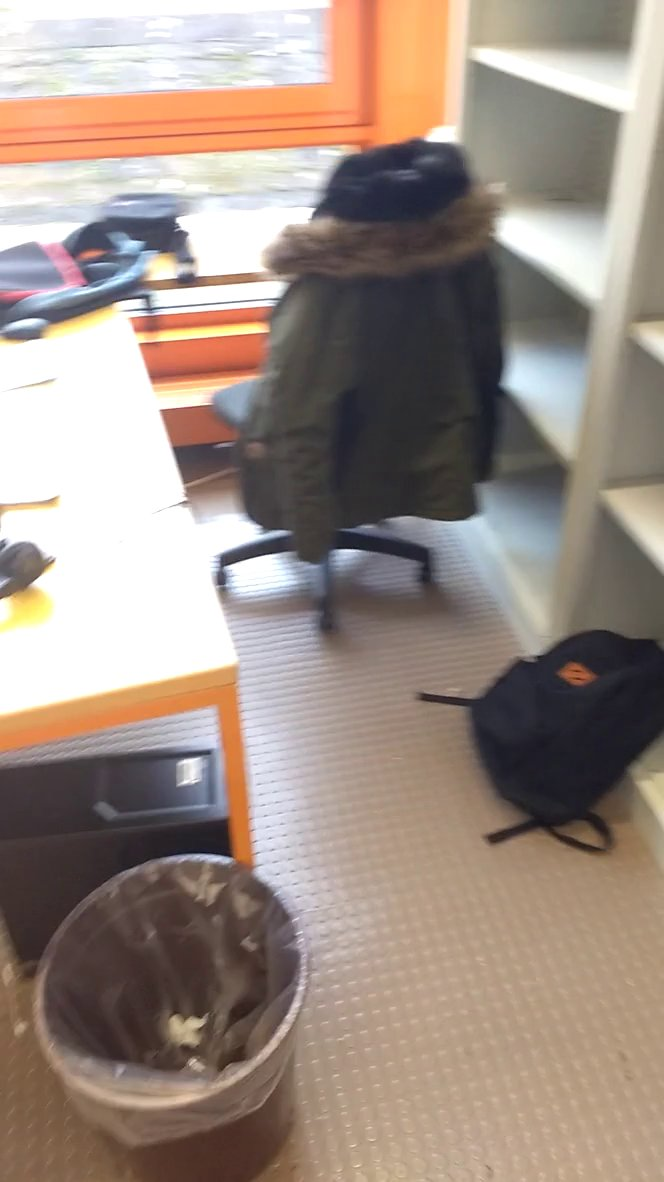bag: (457, 614, 664, 861)
bin: (25, 834, 360, 1180)
